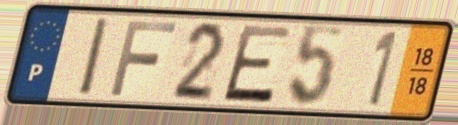1: (368, 29, 401, 110)
2: (168, 19, 228, 105)
5: (287, 24, 347, 111)
E: (219, 23, 296, 107)
F: (106, 18, 180, 99)
I: (77, 15, 113, 99)
